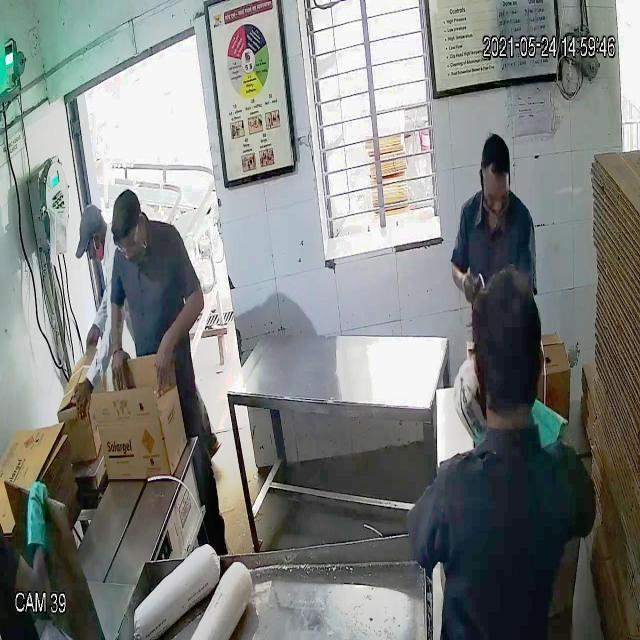glasses: (111, 226, 141, 256)
